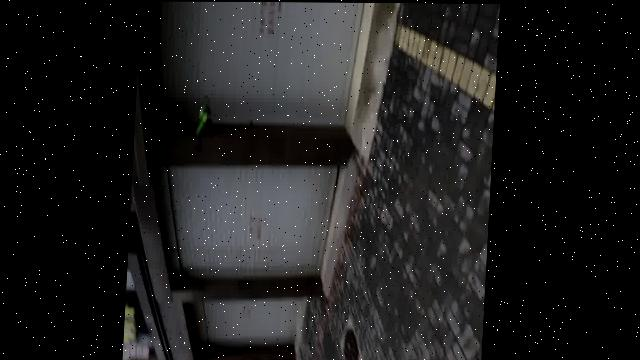drone: (186, 94, 214, 152)
